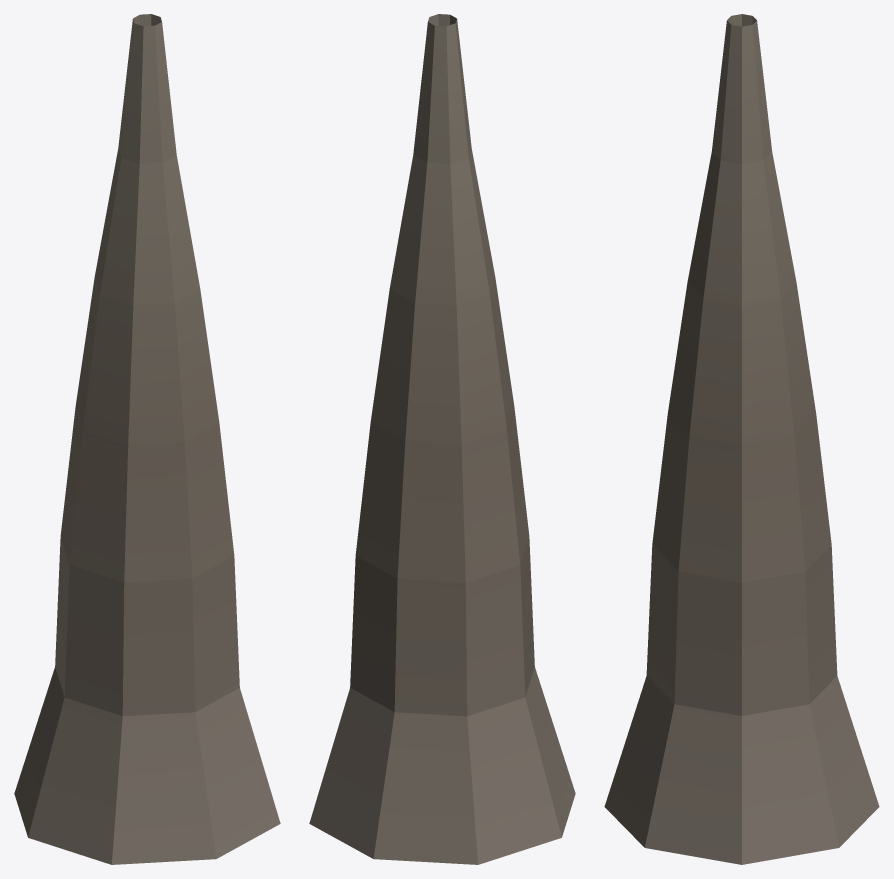
File: stalagmite_recipe_v3.glb
3 renders of one model, left to right at view 1: azimuth 30°, elevation 25°; view 2: azimuth 150°, elevation 25°; view 3: azimuth 270°, elevation 25°, orthographic.
Visible parts, largest first — view 1: world; view 2: world; view 3: world.
Boxes of the visible parts, x1,y1,x2,y2 form: world: [14, 14, 280, 864]; world: [309, 14, 575, 864]; world: [604, 14, 879, 864].
Size of the model in its own units: 0.317 by 1 by 0.317.
